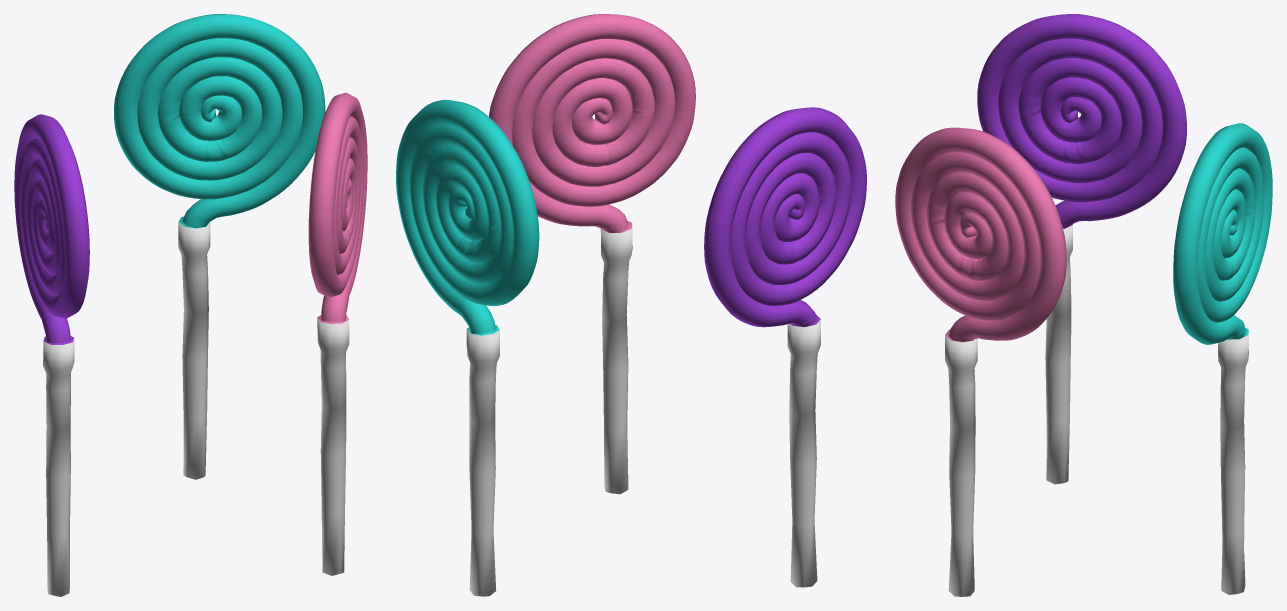
File: lollipop.fbx
The picture shows the model from 3 angles, left to right: view 1: azimuth 30°, elevation 25°; view 2: azimuth 150°, elevation 25°; view 3: azimuth 270°, elevation 25°; orthographic projection. The views are drawn at different scales.
Parts seen in each view (by area): view 1: Plane.001, Plane.000, Plane.002; view 2: Plane.002, Plane.000, Plane.001; view 3: Plane.000, Plane.002, Plane.001.
Boxes of the visible parts, box(x1,y1,x2,y2) form: Plane.001: box(114, 14, 325, 479); Plane.000: box(14, 114, 89, 596); Plane.002: box(308, 92, 367, 575); Plane.002: box(489, 14, 695, 494); Plane.000: box(704, 107, 866, 587); Plane.001: box(396, 99, 539, 596); Plane.000: box(977, 14, 1186, 484); Plane.002: box(895, 127, 1066, 596); Plane.001: box(1173, 123, 1272, 594).
Bounding box in the file's own units: 258 × 324 × 235.
